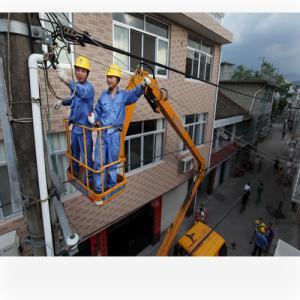none: (268, 222, 273, 230), (260, 218, 265, 225)
yellow: (73, 56, 93, 84), (106, 63, 124, 90), (260, 227, 266, 235)
